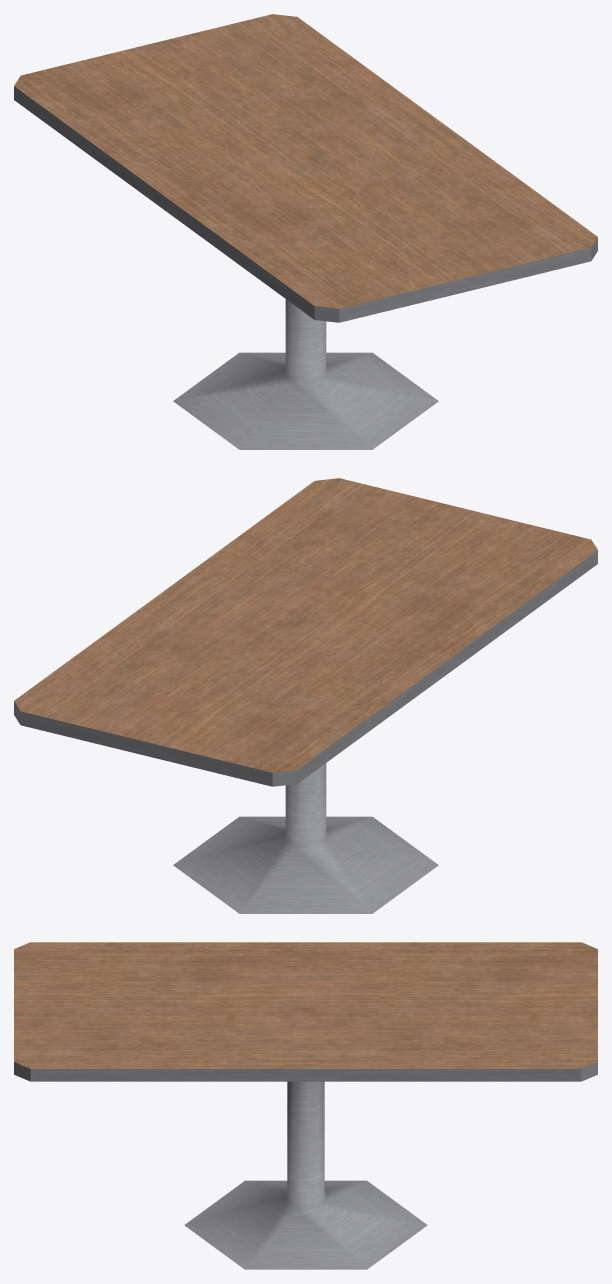
Rendered from Table_03.glb.
The picture shows the model from 3 angles, top to bottom: view 1: azimuth 30°, elevation 25°; view 2: azimuth 150°, elevation 25°; view 3: azimuth 270°, elevation 25°; orthographic projection. The views are drawn at different scales.
Parts seen in each view (by area): view 1: Table_03; view 2: Table_03; view 3: Table_03.
Part boxes in pixels (<box>): Table_03: <box>14,14,597,449</box>; Table_03: <box>14,478,597,913</box>; Table_03: <box>14,942,597,1269</box>.
Size of the model in its own units: 1.1 by 0.8896 by 2.14.
2 materials, 2 textured.
